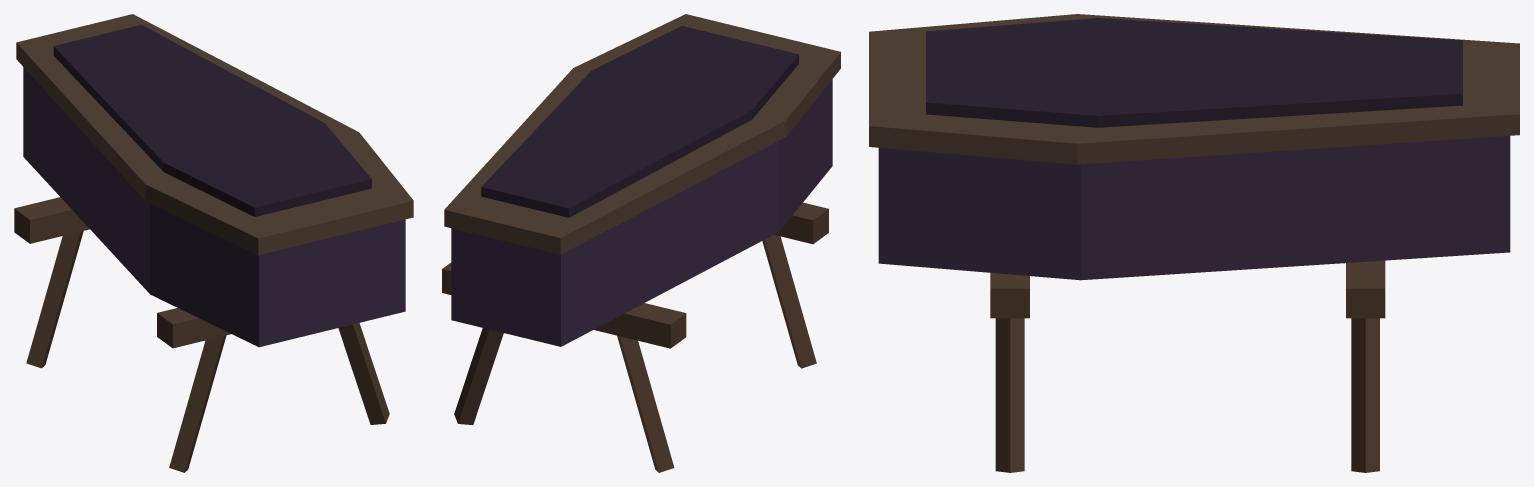
File: coffin.glb
3 renders of one model, left to right at view 1: azimuth 30°, elevation 25°; view 2: azimuth 150°, elevation 25°; view 3: azimuth 270°, elevation 25°, orthographic. The views are drawn at different scales.
Parts seen in each view (by area): view 1: coffin; view 2: coffin; view 3: coffin.
Part boxes in pixels (x1,y1,x2,y2): coffin: [14, 14, 413, 472]; coffin: [442, 14, 840, 472]; coffin: [869, 14, 1519, 472].
Bounding box in the file's own units: 0.5 × 0.5817 × 0.9888.
